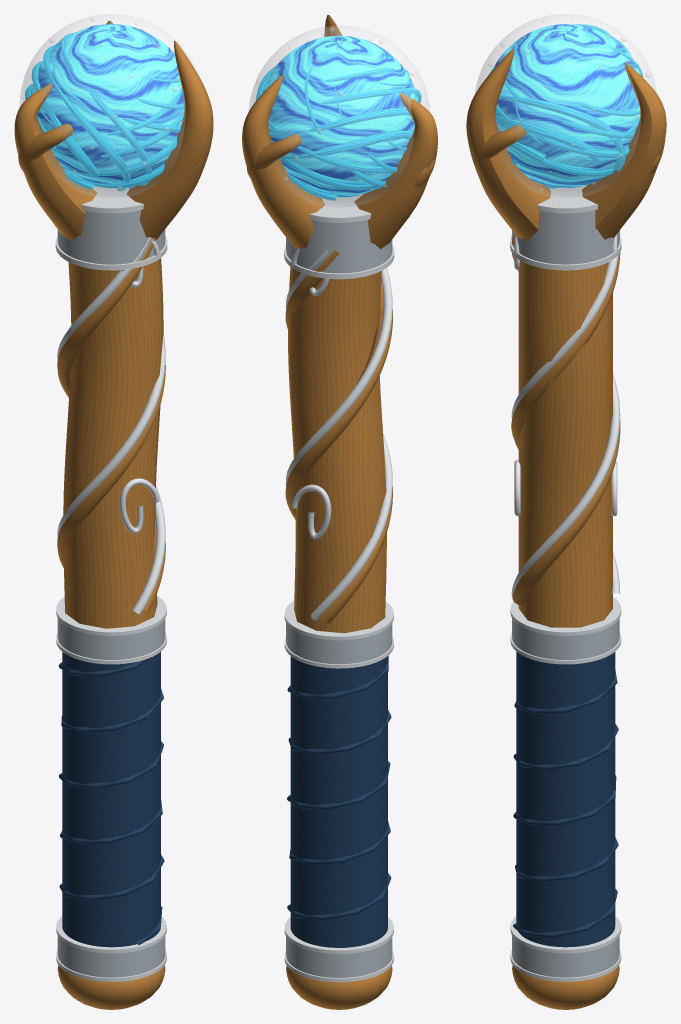
The model's file is water_wand.glb.
The picture shows the model from 3 angles, left to right: view 1: azimuth 30°, elevation 25°; view 2: azimuth 150°, elevation 25°; view 3: azimuth 270°, elevation 25°; orthographic projection.
Parts seen in each view (by area): view 1: water carved wood, water grip leather, water thin polished glass skin, water dense patterned elemental interior, water polished relief, water aged collar, water sculpted elemental flow; view 2: water carved wood, water grip leather, water thin polished glass skin, water dense patterned elemental interior, water polished relief, water aged collar, water sculpted elemental flow; view 3: water carved wood, water grip leather, water thin polished glass skin, water dense patterned elemental interior, water polished relief, water aged collar, water sculpted elemental flow.
Part boxes in pixels (x1,y1,x2,y2): water carved wood: [14, 20, 213, 1009]; water grip leather: [58, 652, 164, 947]; water thin polished glass skin: [20, 14, 196, 197]; water dense patterned elemental interior: [31, 24, 184, 183]; water polished relief: [55, 186, 167, 981]; water aged collar: [57, 210, 165, 977]; water sculpted elemental flow: [25, 25, 184, 191]; water carved wood: [242, 15, 437, 1009]; water grip leather: [287, 655, 391, 947]; water thin polished glass skin: [249, 26, 429, 207]; water dense patterned elemental interior: [263, 35, 418, 197]; water polished relief: [284, 194, 394, 982]; water aged collar: [286, 219, 392, 977]; water sculpted elemental flow: [256, 58, 421, 200]; water carved wood: [466, 48, 666, 1009]; water grip leather: [513, 652, 618, 947]; water thin polished glass skin: [475, 14, 656, 197]; water dense patterned elemental interior: [493, 24, 642, 187]; water polished relief: [510, 185, 621, 981]; water aged collar: [512, 210, 619, 977]; water sculpted elemental flow: [489, 24, 643, 188].
Size of the model in its own units: 0.0906 by 0.4818 by 0.0891.
Materials: 7 (4 with a texture image).
